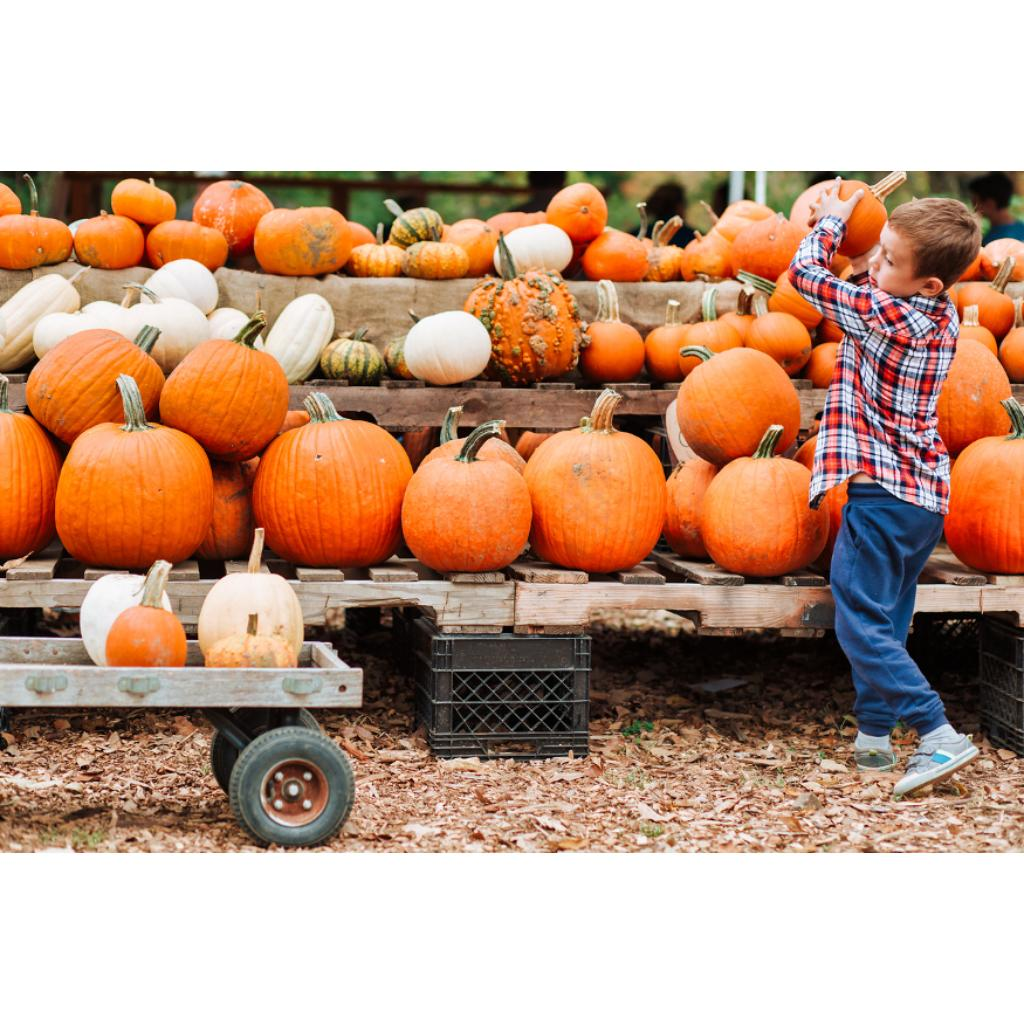pumpkin: (56, 373, 214, 568), (254, 393, 412, 566), (524, 389, 666, 573), (700, 425, 830, 576), (402, 421, 532, 572), (160, 311, 288, 460), (464, 239, 590, 387), (26, 325, 164, 443), (680, 345, 800, 466), (944, 397, 1024, 573), (0, 375, 62, 558), (938, 339, 1012, 458), (0, 175, 74, 268), (578, 279, 644, 383), (196, 457, 260, 558), (254, 209, 352, 274), (192, 181, 274, 258), (838, 171, 906, 256), (662, 459, 720, 556), (744, 293, 812, 375), (730, 213, 806, 281), (106, 605, 188, 667), (736, 270, 822, 329), (958, 257, 1016, 339), (146, 219, 228, 271), (682, 287, 744, 353), (644, 299, 692, 383), (74, 211, 144, 268), (546, 183, 608, 243), (582, 229, 648, 280), (442, 221, 498, 277), (346, 223, 404, 277), (701, 201, 776, 242), (814, 481, 848, 569), (112, 179, 176, 225), (386, 199, 444, 248), (680, 229, 732, 281), (420, 405, 464, 464), (402, 241, 470, 278), (644, 215, 682, 280), (718, 285, 756, 342), (790, 181, 833, 230), (958, 306, 998, 354), (980, 239, 1024, 281), (480, 437, 526, 474), (802, 343, 837, 389), (998, 327, 1024, 383), (486, 213, 546, 234), (794, 435, 818, 470), (0, 183, 22, 216), (349, 221, 376, 246), (958, 253, 982, 280), (816, 319, 844, 342), (280, 411, 309, 432), (678, 357, 698, 374)
